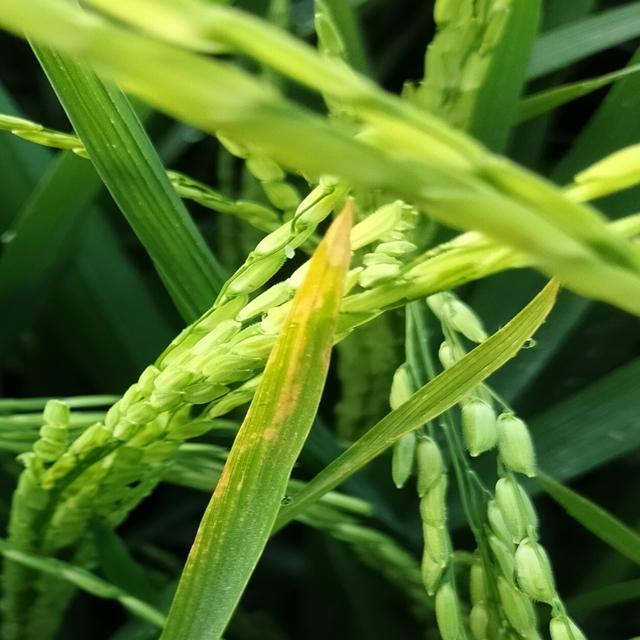healthy: (256, 187, 370, 479)
